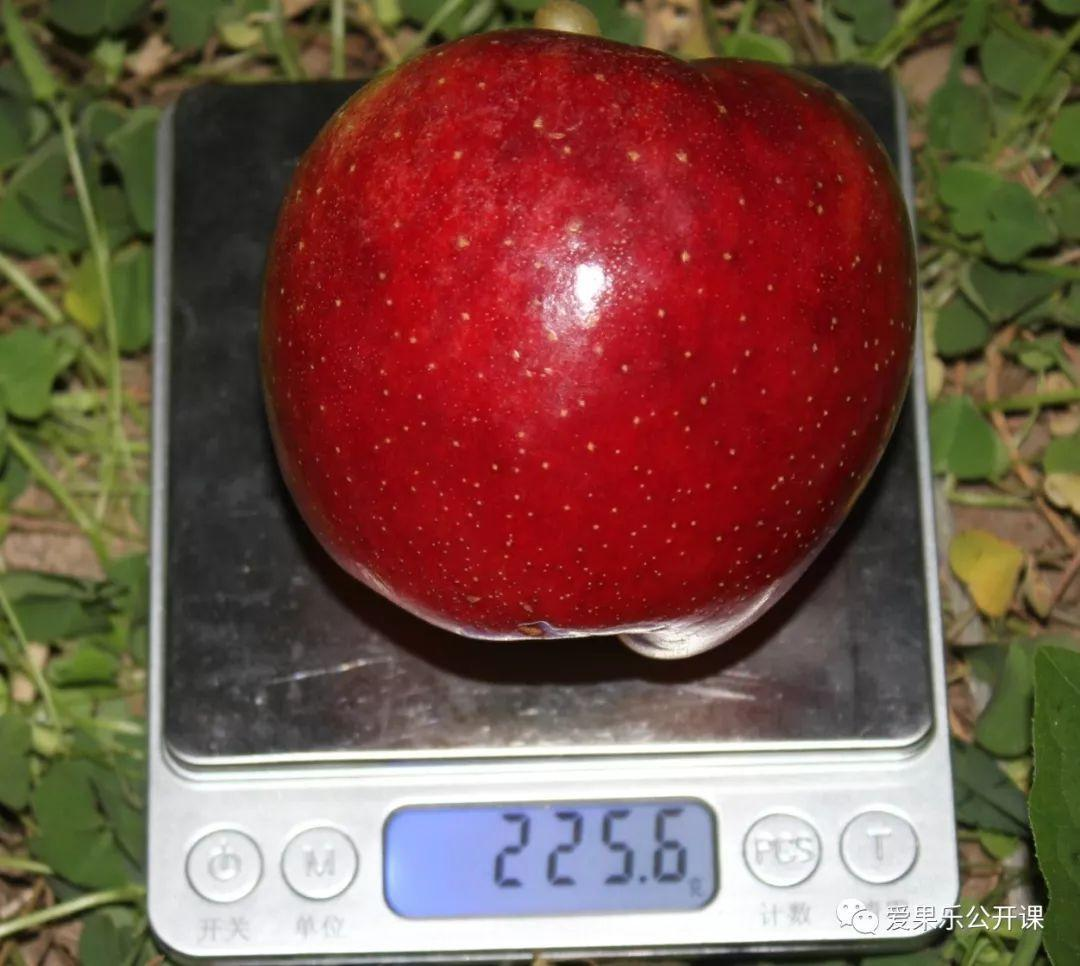apple: (258, 30, 914, 665)
